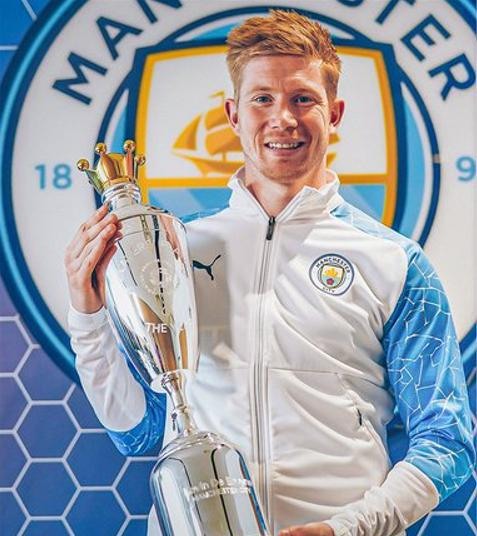Sober: (239, 60, 327, 169)
